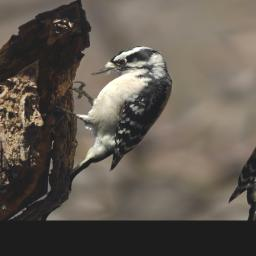Woodpecker: (14, 36, 198, 193)
